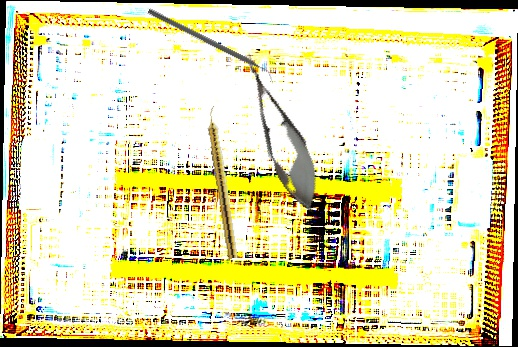Chopper: (143, 8, 279, 85)
Handpiece: (204, 105, 241, 260)
Micro Scissor: (226, 44, 334, 221)
